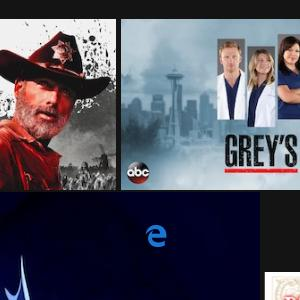edge: (145, 225, 166, 247)
